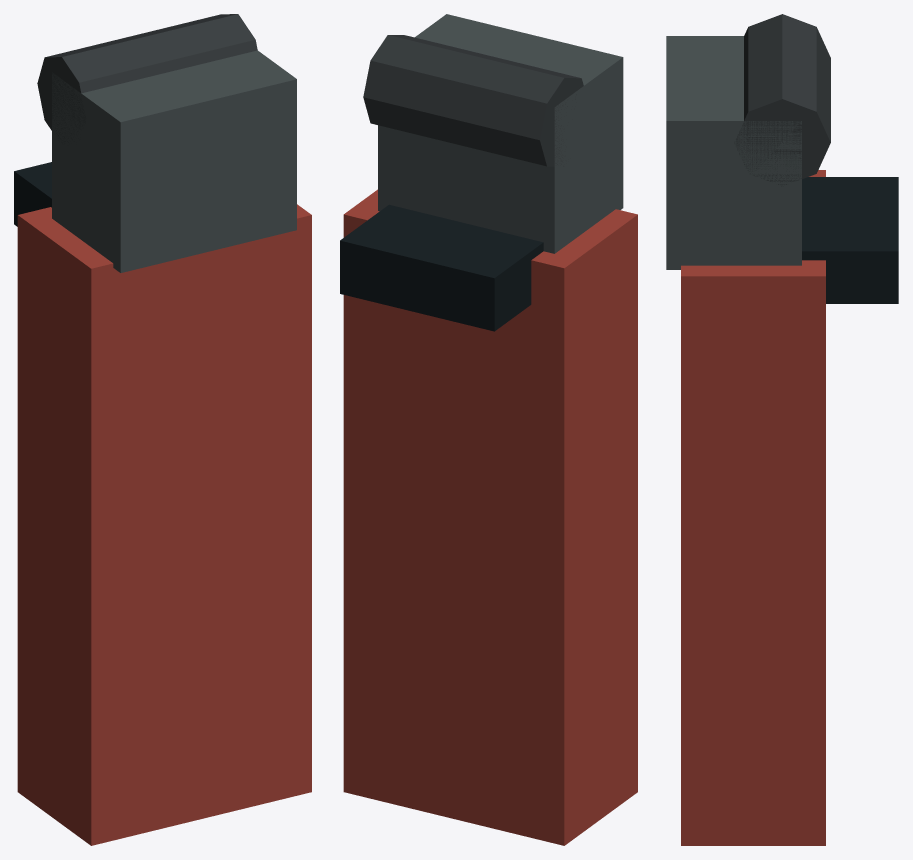
File: blender_igniter_1.glb
3 views of the same model, side by side, from view 1: azimuth 30°, elevation 25°; view 2: azimuth 150°, elevation 25°; view 3: azimuth 270°, elevation 25° (orthographic).
Visible parts, largest first — view 1: blender_igniter_1; view 2: blender_igniter_1; view 3: blender_igniter_1.
Part boxes in pixels (x1=…): blender_igniter_1: x1=14, y1=14, x2=311, y2=845; blender_igniter_1: x1=340, y1=14, x2=637, y2=845; blender_igniter_1: x1=666, y1=14, x2=898, y2=845.
Size of the model in its own units: 0.026 by 0.084 by 0.024.
Materials: 1 (1 with a texture image).
